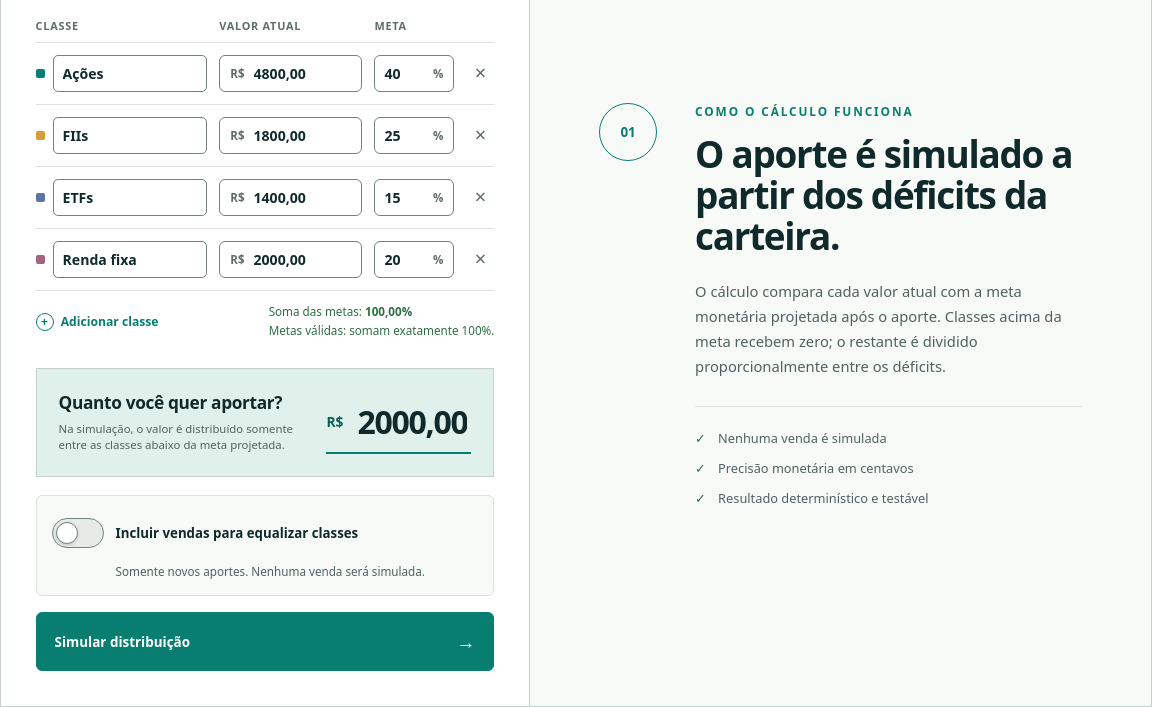
Test: ContributionSimulator › clears a calculated result when changing the sales option
(page scrolled)
Click the button "Simular distribuição →" at point(122, 642), box left=36, top=612, right=494, bottom=671
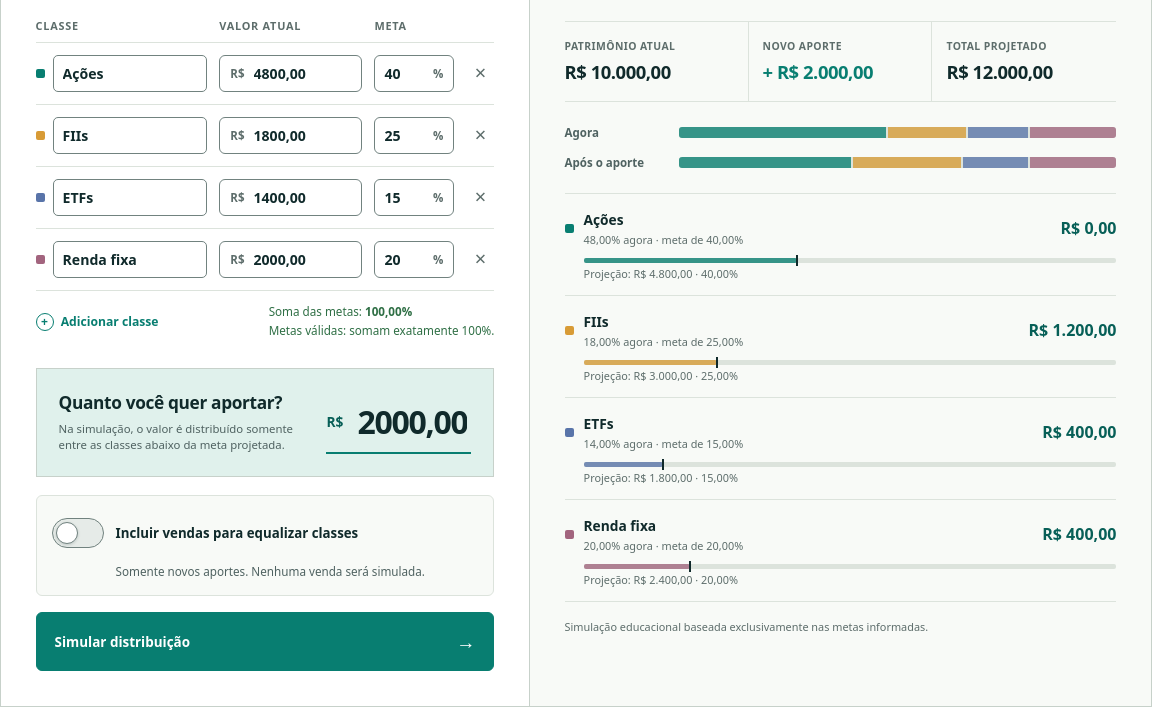
Click the switch labelled "Incluir vendas para equalizar classes" at point(205, 532), box left=52, top=518, right=358, bottom=548
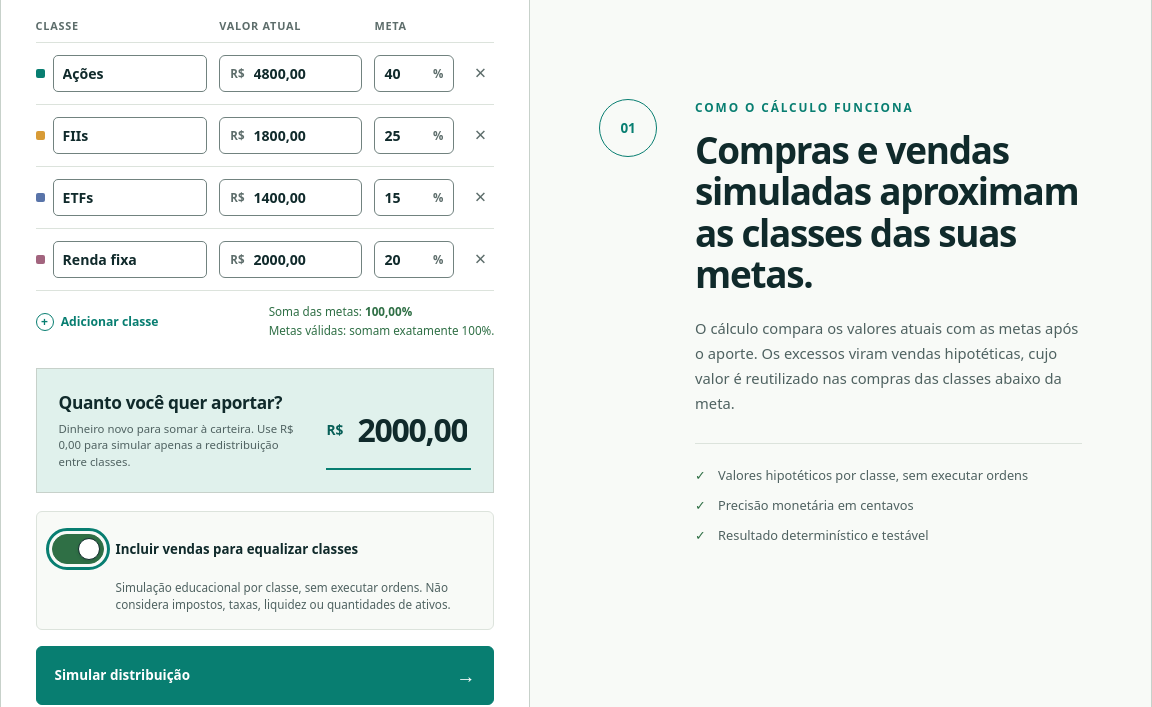
Check: the heading "Compras e vendas simuladas aproximam as classes das suas metas." is shown, box left=695, top=130, right=1082, bottom=295
